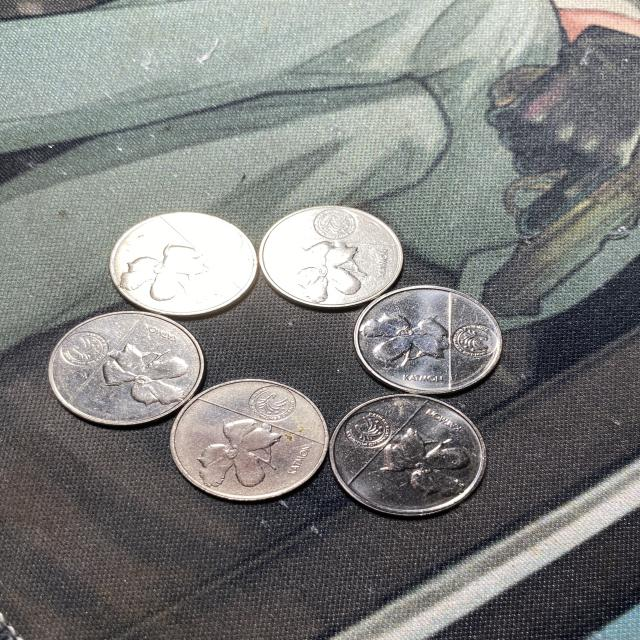25Cent_New_Back: (337, 397, 488, 512), (175, 384, 322, 496), (45, 315, 198, 422), (354, 285, 500, 393), (109, 214, 260, 310), (263, 207, 398, 300)
